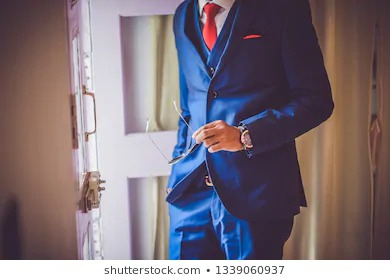F_M_suit jacket: (165, 1, 336, 223)
